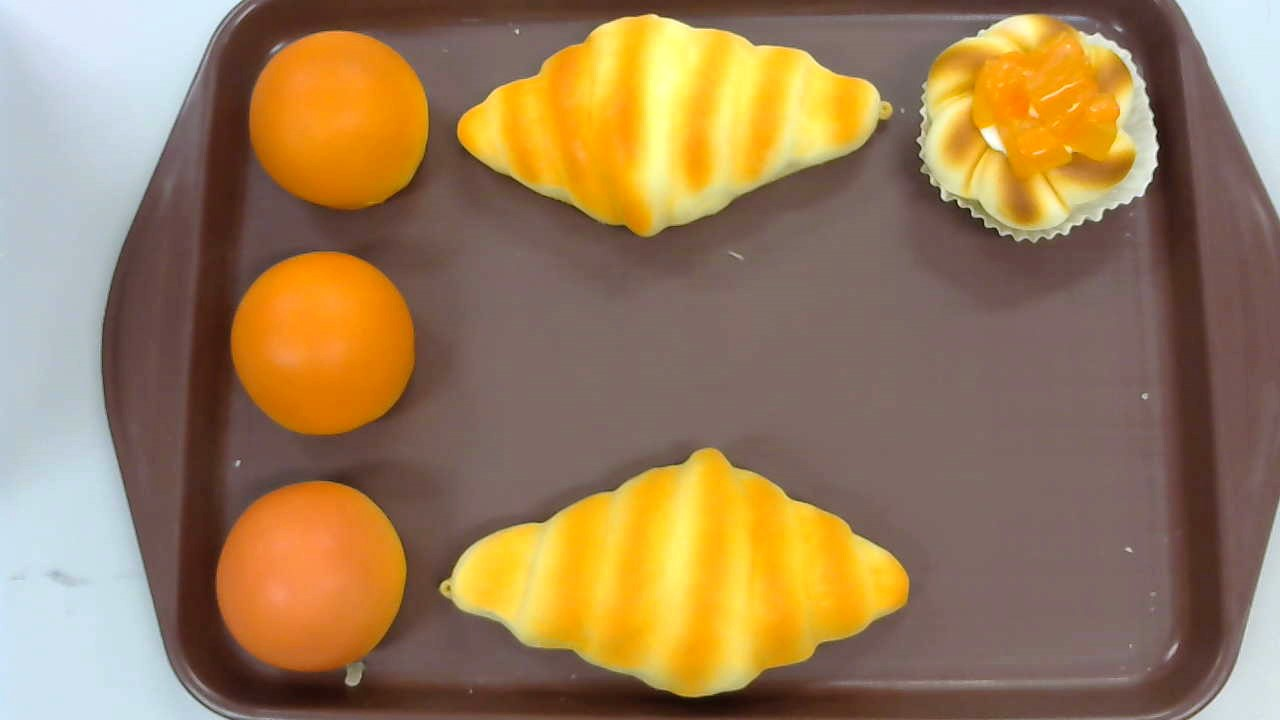bun: (215, 480, 408, 671), (229, 251, 416, 434), (248, 31, 428, 210)
croissant: (439, 447, 910, 699), (457, 14, 893, 239)
mango tart: (916, 12, 1160, 245)
